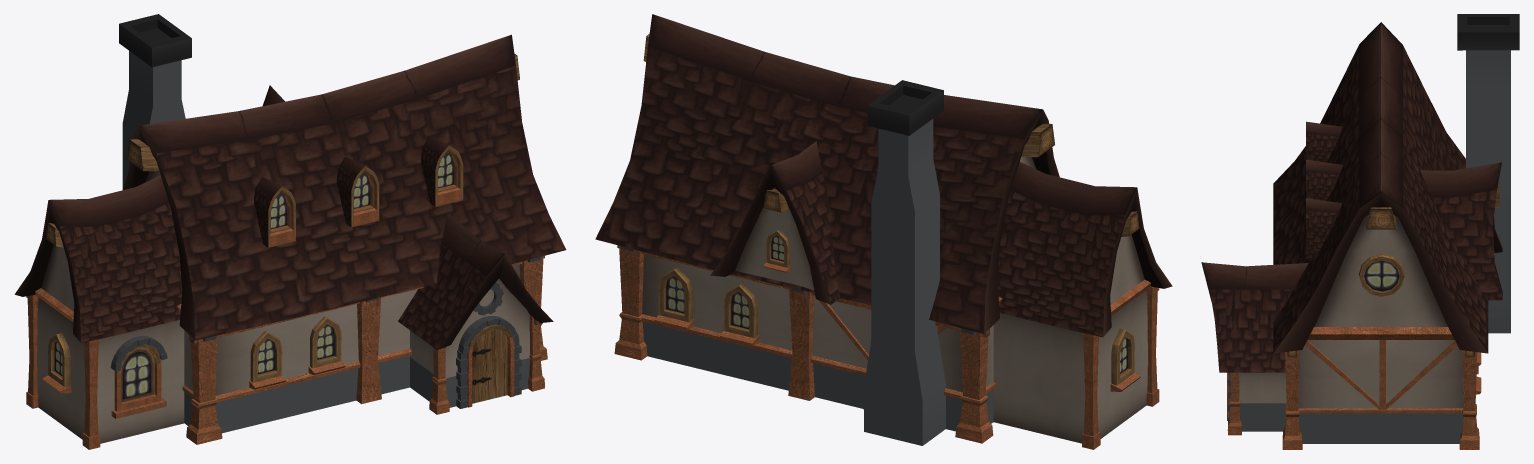
File: fanasty_mod_village_building17.fbx
3 views of the same model, side by side, from view 1: azimuth 30°, elevation 25°; view 2: azimuth 150°, elevation 25°; view 3: azimuth 270°, elevation 25° (orthographic). The views are drawn at different scales.
Visible parts, largest first — view 1: village_building_017; view 2: village_building_017; view 3: village_building_017.
Part boxes in pixels (x1=…): village_building_017: x1=14, y1=14, x2=566, y2=449; village_building_017: x1=595, y1=14, x2=1172, y2=449; village_building_017: x1=1201, y1=14, x2=1519, y2=449.
Size of the model in its own units: 15.48 by 10.1 by 9.8.
